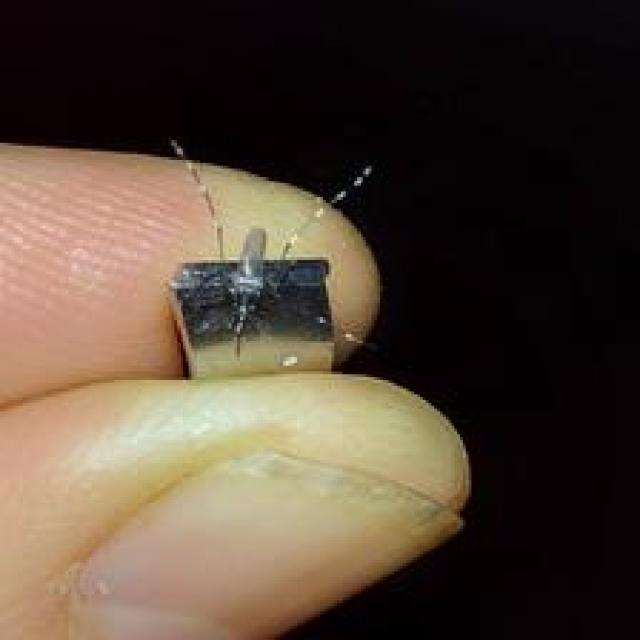Aedes albopictus: (165, 137, 382, 377)
